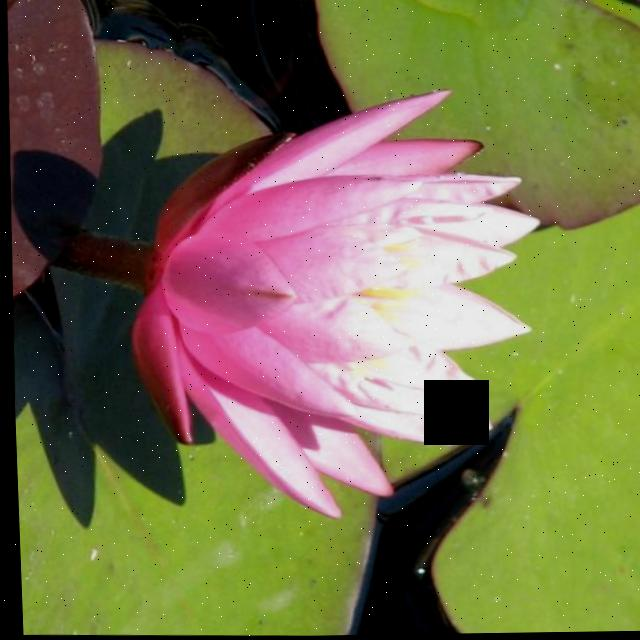rose: (1, 34, 595, 571)
